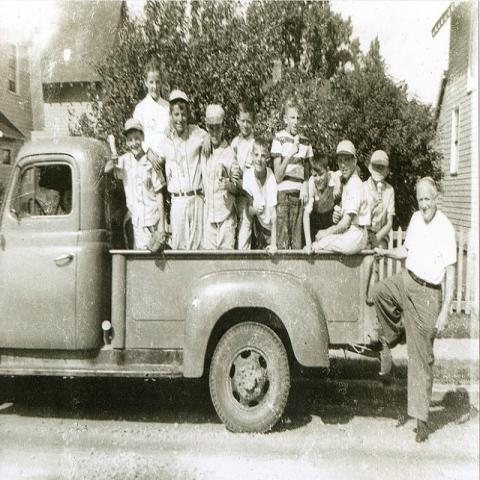truck: (0, 138, 378, 437)
